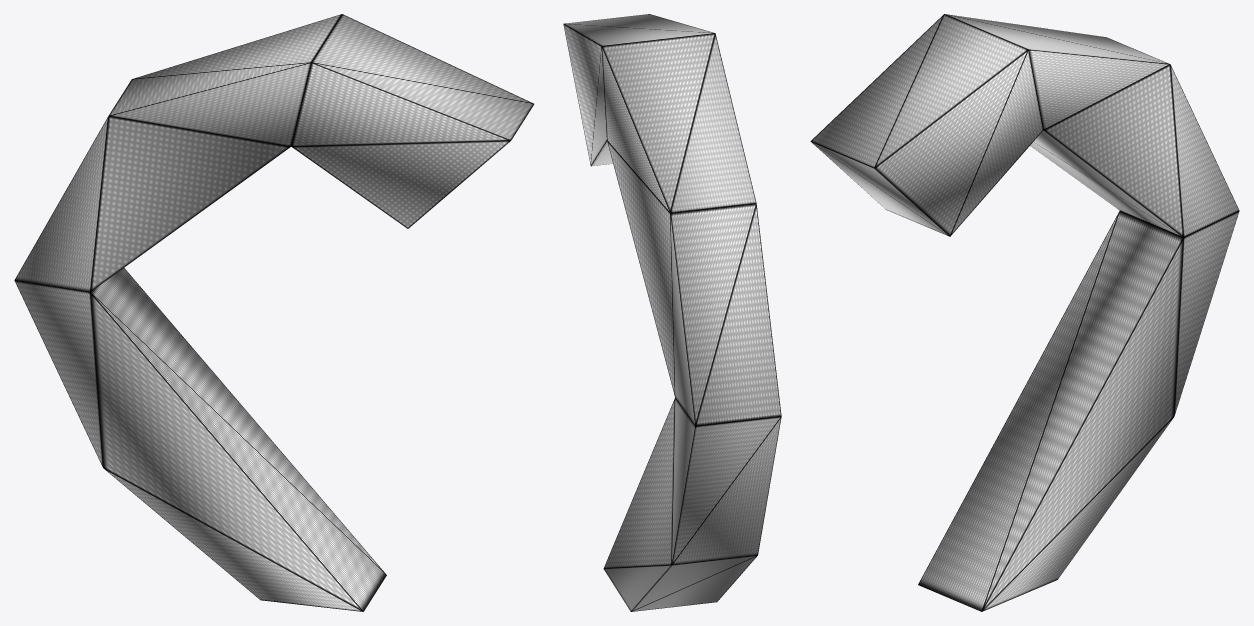
Rendered from RIGHT_COLLISION.obj.
3 renders of one model, left to right at view 1: azimuth 30°, elevation 25°; view 2: azimuth 150°, elevation 25°; view 3: azimuth 270°, elevation 25°, orthographic.
Bounding box in the file's own units: 50.85 × 72.13 × 50.85.
Materials: 1 (1 with a texture image).
